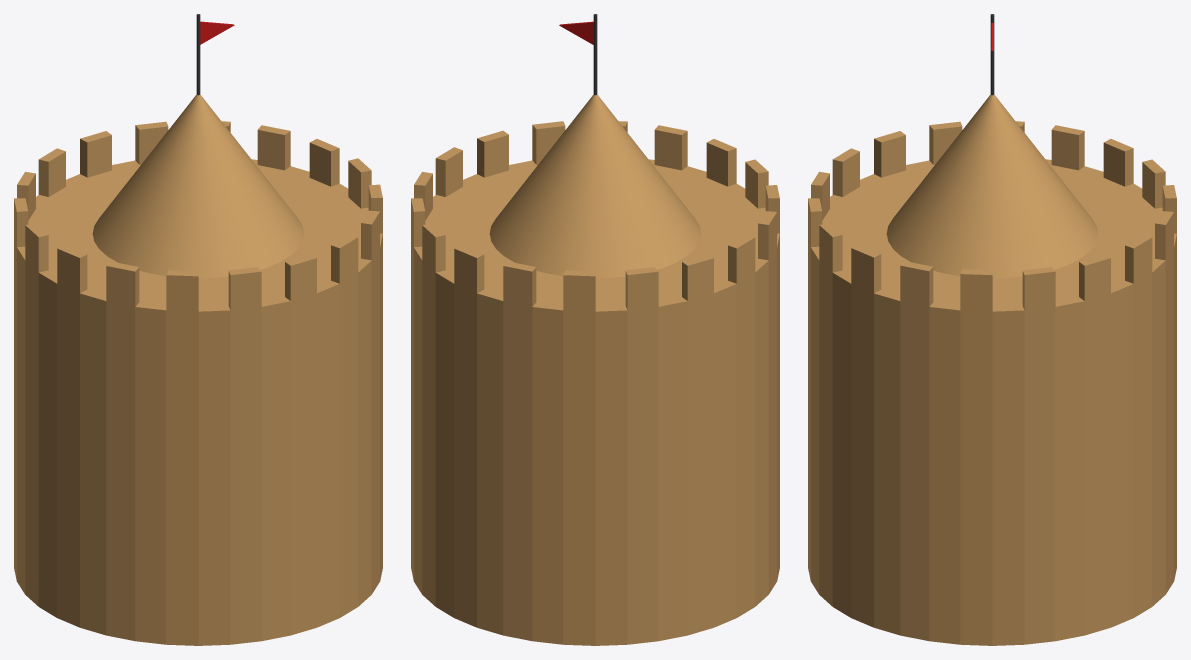
File: Castelo de Areia.fbx
3 views of the same model, side by side, from view 1: azimuth 30°, elevation 25°; view 2: azimuth 150°, elevation 25°; view 3: azimuth 270°, elevation 25° (orthographic).
Parts seen in each view (by area): view 1: Cylinder, Cone; view 2: Cylinder, Cone; view 3: Cylinder, Cone.
Part boxes in pixels (x1,y1,x2,y2): Cylinder: (14, 121, 382, 645); Cone: (92, 94, 304, 278); Cylinder: (411, 121, 779, 645); Cone: (489, 94, 701, 278); Cylinder: (808, 121, 1176, 645); Cone: (886, 94, 1098, 278).
Bounding box in the file's own units: 200 × 331 × 200.
